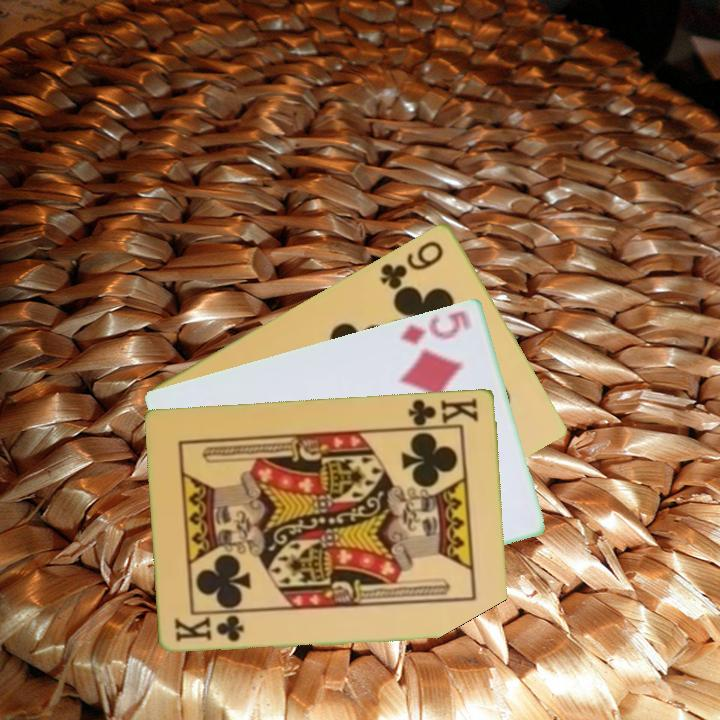5d: (396, 306, 475, 347)
9c: (376, 236, 447, 292)
Kc: (403, 393, 482, 431), (171, 612, 247, 644)
